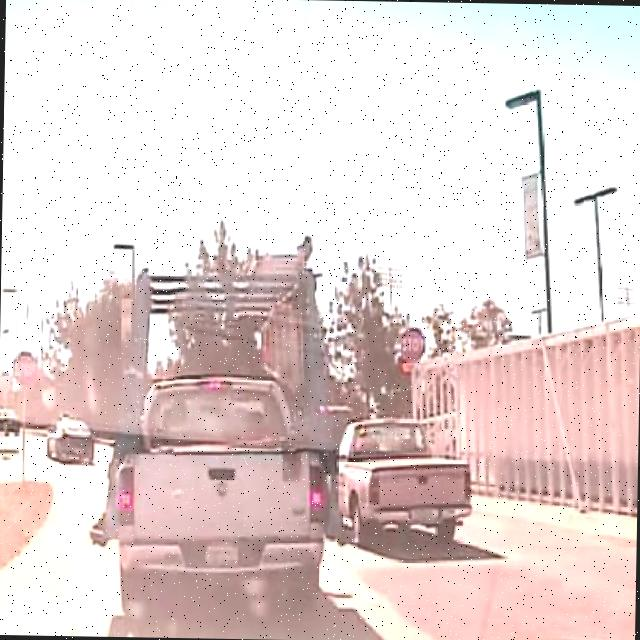Stop: (399, 326, 426, 362)
